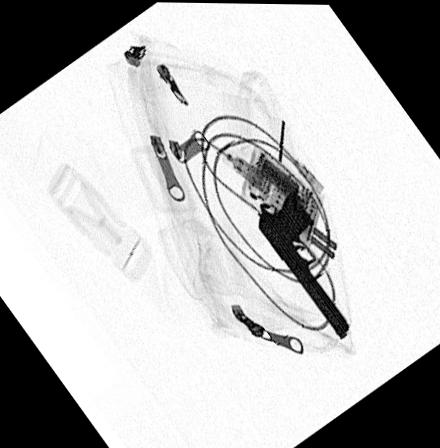Gun: (258, 193, 352, 337)
